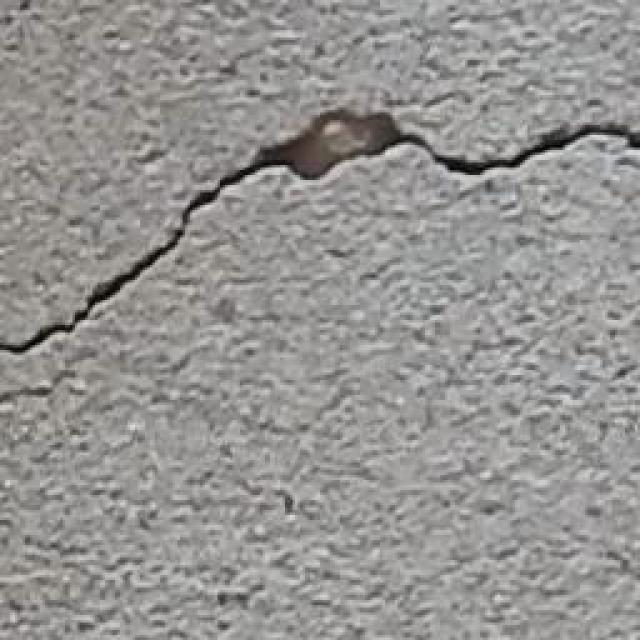concrete-crack: (0, 105, 640, 359)
